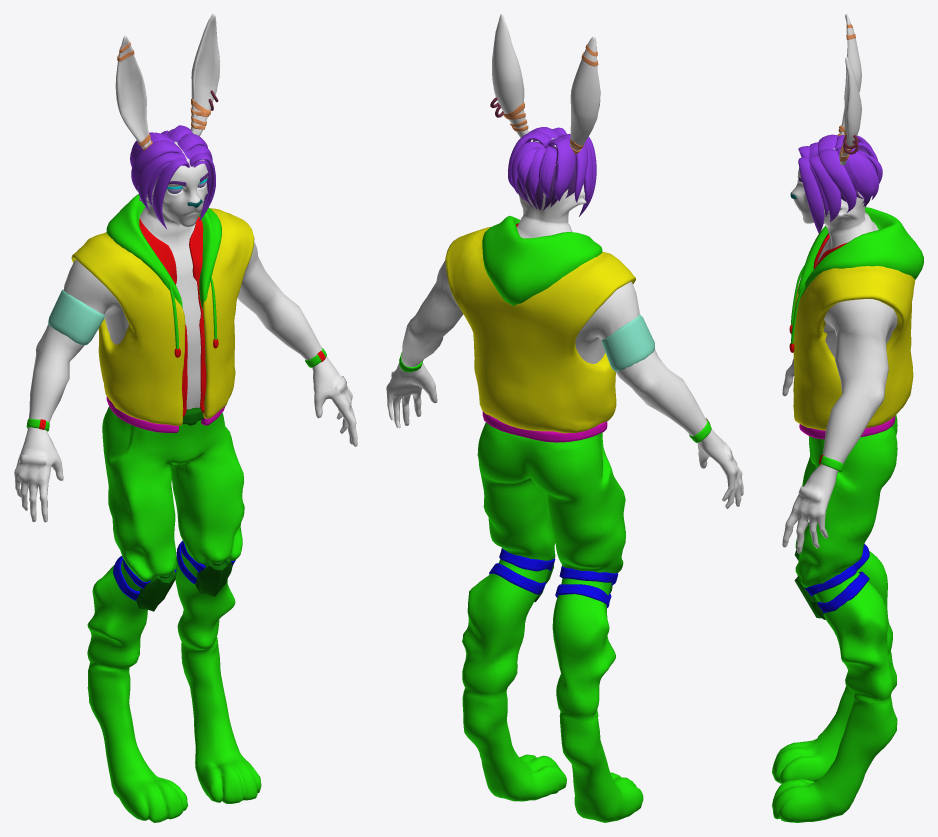
3 renders of one model, left to right at view 1: azimuth 30°, elevation 25°; view 2: azimuth 150°, elevation 25°; view 3: azimuth 270°, elevation 25°, orthographic. The views are drawn at different scales.
Visible parts, largest first — view 1: Retopo_LeG, BODY_r, Retopo_Bomber_lp, Retopo_K.001, Retopo_Vkladish, Retopo_Mesh.007, Cube.004, Retopo_NurbsPath.001, Retopo_NurbsPath.004, Retopo_NurbsPath.005, poyas_lp, Lyam2_lp; view 2: Retopo_LeG, Retopo_Bomber_lp, BODY_r, Retopo_K.001, Retopo_Mesh.007, Retopo_NurbsPath.006, Lyam2_lp, Lyam1_lp, poyas_lp, Retopo_NurbsPath.004; view 3: Retopo_LeG, BODY_r, Retopo_Bomber_lp, Retopo_K.001, Retopo_NurbsPath.004, Retopo_NurbsPath.006, Retopo_NurbsPath.001, Retopo_NurbsPath.005, Lyam2_lp, Lyam1_lp, poyas_lp, Cube.004 (+1 smaller).
Part boxes in pixels (x1=…): Retopo_LeG: x1=87, y1=406, x2=261, y2=822; BODY_r: x1=14, y1=14, x2=357, y2=522; Retopo_Bomber_lp: x1=71, y1=208, x2=254, y2=425; Retopo_K.001: x1=106, y1=194, x2=221, y2=309; Retopo_Vkladish: x1=139, y1=216, x2=206, y2=416; Retopo_Mesh.007: x1=48, y1=289, x2=104, y2=345; Cube.004: x1=136, y1=558, x2=232, y2=611; Retopo_NurbsPath.001: x1=152, y1=153, x2=215, y2=228; Retopo_NurbsPath.004: x1=131, y1=133, x2=207, y2=192; Retopo_NurbsPath.005: x1=138, y1=145, x2=212, y2=210; poyas_lp: x1=106, y1=396, x2=225, y2=432; Lyam2_lp: x1=113, y1=541, x2=196, y2=600; Retopo_LeG: x1=462, y1=422, x2=643, y2=822; Retopo_Bomber_lp: x1=445, y1=227, x2=635, y2=433; BODY_r: x1=386, y1=14, x2=743, y2=508; Retopo_K.001: x1=482, y1=215, x2=602, y2=305; Retopo_Mesh.007: x1=601, y1=314, x2=654, y2=371; Retopo_NurbsPath.006: x1=508, y1=131, x2=575, y2=201; Lyam2_lp: x1=489, y1=563, x2=611, y2=607; Lyam1_lp: x1=499, y1=548, x2=618, y2=585; poyas_lp: x1=482, y1=411, x2=607, y2=442; Retopo_NurbsPath.004: x1=529, y1=127, x2=587, y2=202; Retopo_LeG: x1=772, y1=415, x2=897, y2=822; BODY_r: x1=782, y1=14, x2=897, y2=553; Retopo_Bomber_lp: x1=793, y1=266, x2=915, y2=430; Retopo_K.001: x1=798, y1=207, x2=923, y2=297; Retopo_NurbsPath.004: x1=818, y1=134, x2=856, y2=212; Retopo_NurbsPath.006: x1=835, y1=134, x2=874, y2=203; Retopo_NurbsPath.001: x1=798, y1=146, x2=824, y2=233; Retopo_NurbsPath.005: x1=809, y1=142, x2=841, y2=222; Lyam2_lp: x1=817, y1=544, x2=869, y2=613; Lyam1_lp: x1=804, y1=564, x2=857, y2=595; poyas_lp: x1=799, y1=416, x2=895, y2=439; Cube.004: x1=794, y1=546, x2=825, y2=619.
Bounding box in the file's own units: 11.81 × 25.68 × 4.65.
